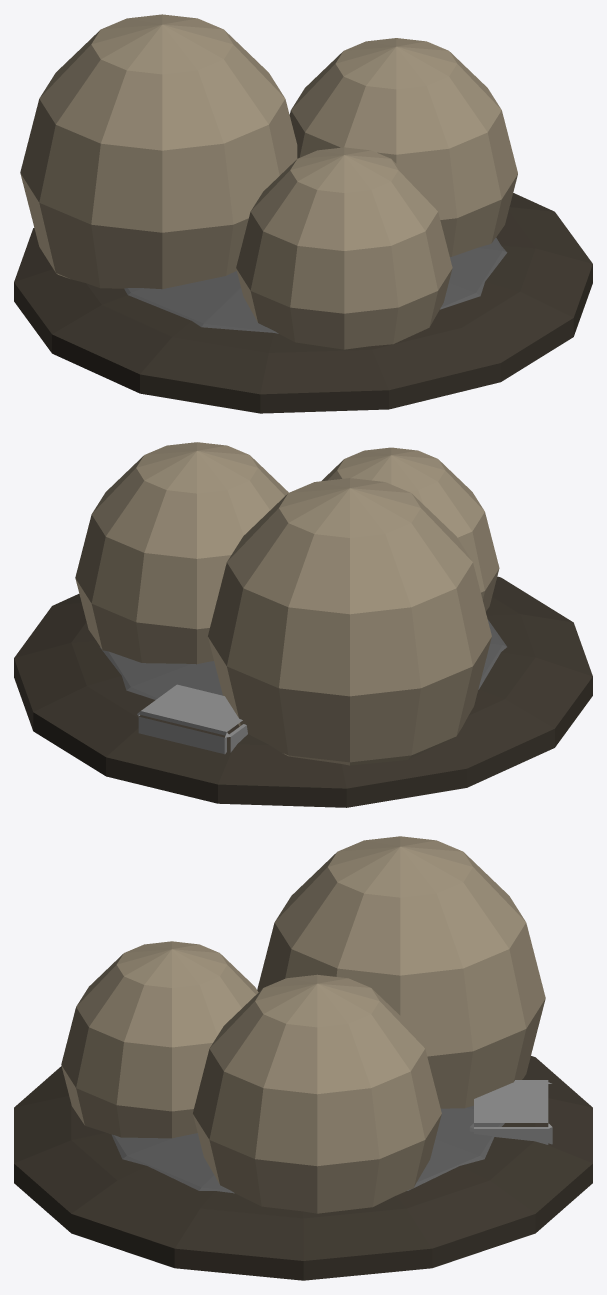
The model's file is bl_sac.glb.
3 renders of one model, top to bottom at view 1: azimuth 30°, elevation 25°; view 2: azimuth 150°, elevation 25°; view 3: azimuth 270°, elevation 25°, orthographic. The views are drawn at different scales.
Parts seen in each view (by area): view 1: body; view 2: body; view 3: body.
Part boxes in pixels (box(x1,y1,x2,y2)): body: box(14, 14, 592, 413); body: box(14, 442, 592, 807); body: box(14, 836, 592, 1280).
Size of the model in its own units: 41.18 by 23.18 by 40.15.
